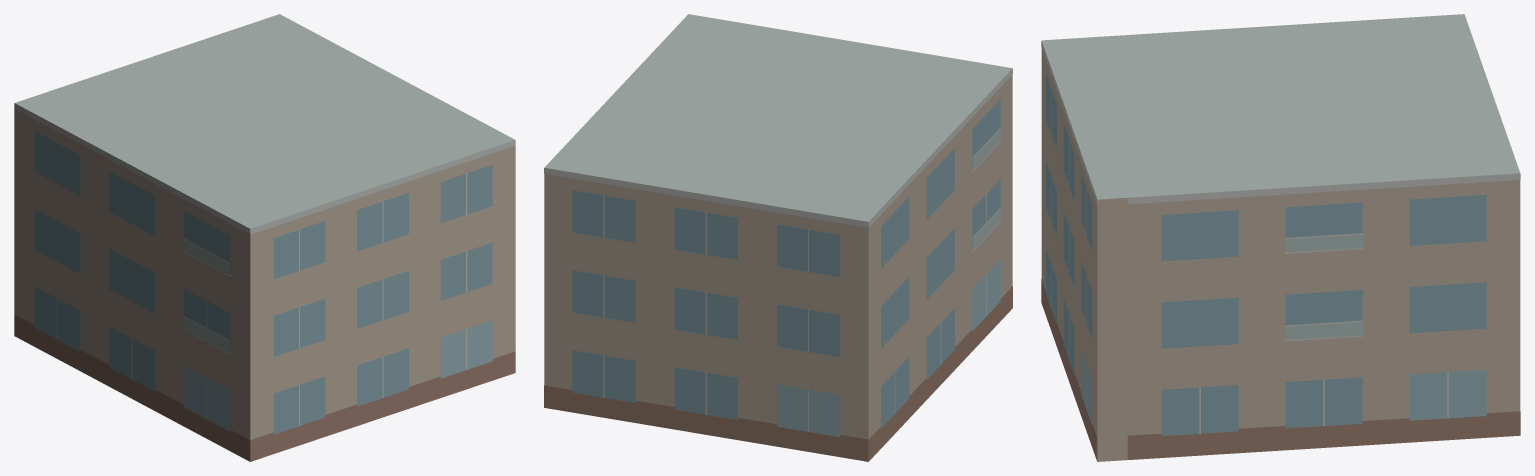
The model's file is survey-upis-32987903.glb.
3 views of the same model, side by side, from view 1: azimuth 30°, elevation 25°; view 2: azimuth 150°, elevation 25°; view 3: azimuth 270°, elevation 25° (orthographic). The views are drawn at different scales.
Parts seen in each view (by area): view 1: survey-upis-32987903.tmp; view 2: survey-upis-32987903.tmp; view 3: survey-upis-32987903.tmp.
Boxes of the visible parts, x1,y1,x2,y2 form: survey-upis-32987903.tmp: (14,14,515,461); survey-upis-32987903.tmp: (544,14,1012,461); survey-upis-32987903.tmp: (1041,14,1520,461).
Bounding box in the file's own units: 14.8 × 9.75 × 16.15.
